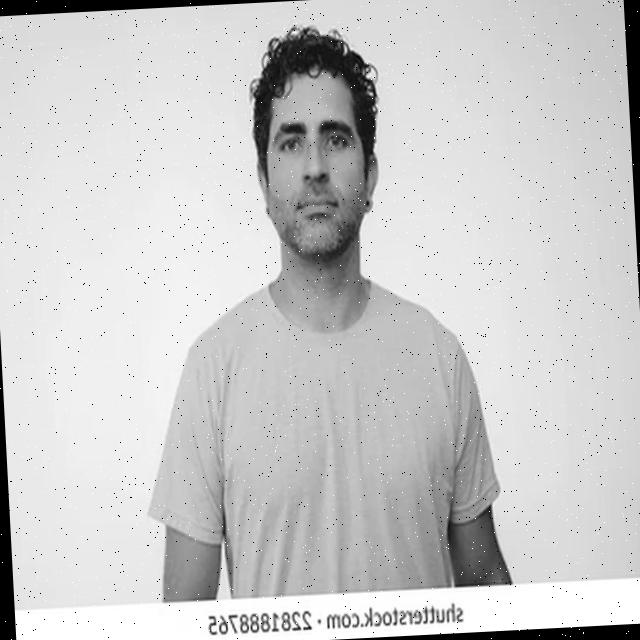Neutral: (262, 76, 370, 256)
